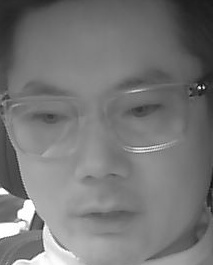eye: (123, 99, 164, 119), (28, 109, 67, 129)
glass: (105, 83, 193, 153), (2, 97, 81, 157)
mouth: (73, 196, 144, 240)
